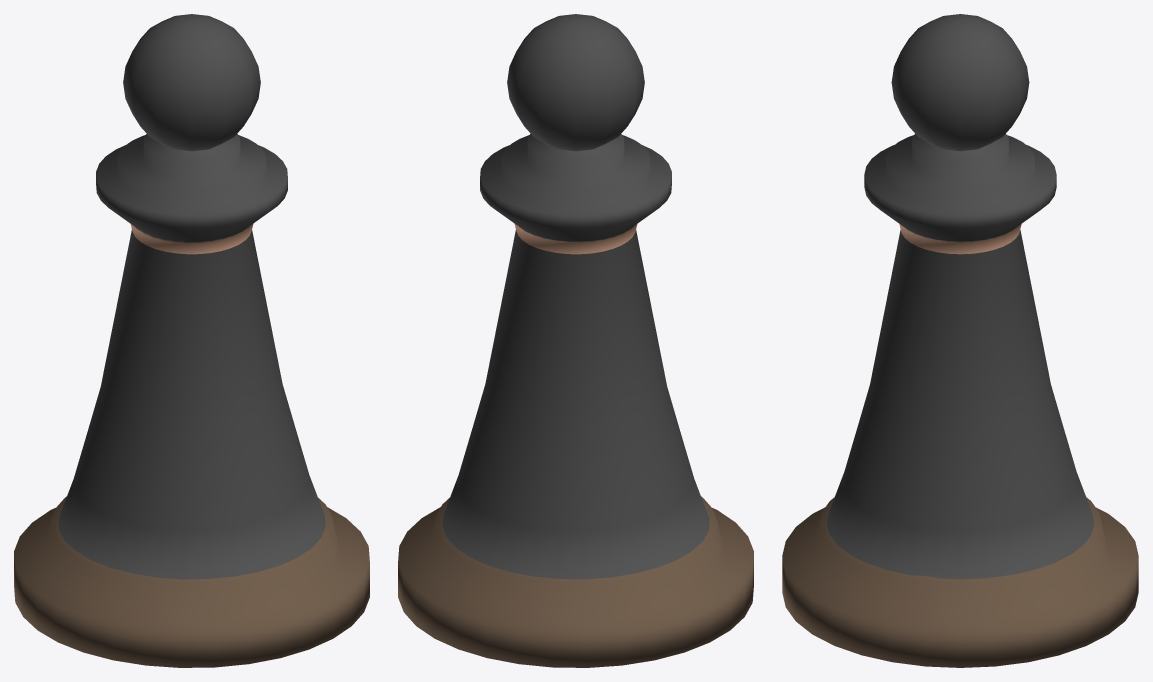
Rendered from Pawn.gltf.
3 renders of one model, left to right at view 1: azimuth 30°, elevation 25°; view 2: azimuth 150°, elevation 25°; view 3: azimuth 270°, elevation 25°, orthographic.
Visible parts, largest first — view 1: ポーン.001; view 2: ポーン.001; view 3: ポーン.001.
Part boxes in pixels (x1,y1,x2,y2): ポーン.001: (14,14,369,667); ポーン.001: (398,14,753,667); ポーン.001: (782,14,1138,667).
Bounding box in the file's own units: 0.8681 × 1.54 × 0.8681.
Materials: 1 (1 with a texture image).
